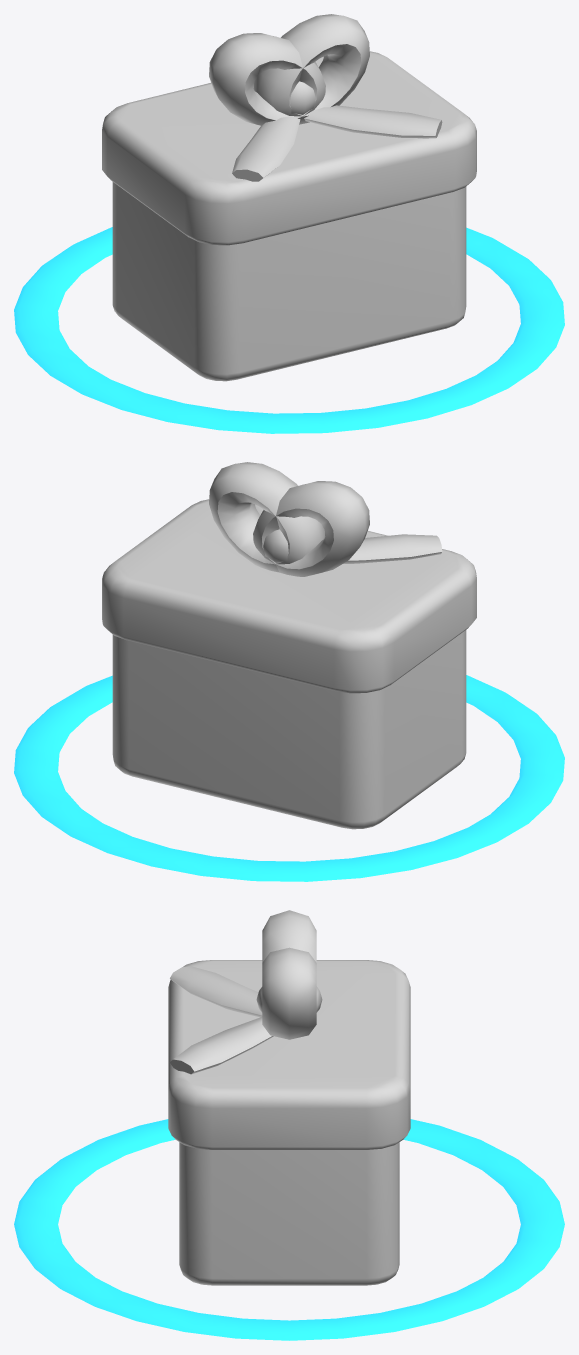
The model's file is Hub_CleanGift.fbx.
The picture shows the model from 3 angles, top to bottom: view 1: azimuth 30°, elevation 25°; view 2: azimuth 150°, elevation 25°; view 3: azimuth 270°, elevation 25°; orthographic projection.
Parts seen in each view (by area): view 1: CleanGift_Lid, CleanGift_Body, CleanGift_Glow; view 2: CleanGift_Lid, CleanGift_Body, CleanGift_Glow; view 3: CleanGift_Lid, CleanGift_Body, CleanGift_Glow.
Boxes of the visible parts, left/top/right/bottom form: CleanGift_Lid: left=102, top=14, right=476, bottom=245; CleanGift_Body: left=112, top=182, right=466, bottom=381; CleanGift_Glow: left=14, top=227, right=564, bottom=433; CleanGift_Lid: left=102, top=462, right=476, bottom=693; CleanGift_Body: left=112, top=630, right=466, bottom=829; CleanGift_Glow: left=14, top=675, right=564, bottom=881; CleanGift_Lid: left=168, top=910, right=410, bottom=1149; CleanGift_Body: left=179, top=1142, right=399, bottom=1285; CleanGift_Glow: left=14, top=1119, right=564, bottom=1340.
Bounding box in the file's own units: 10 × 5.8 × 10.
